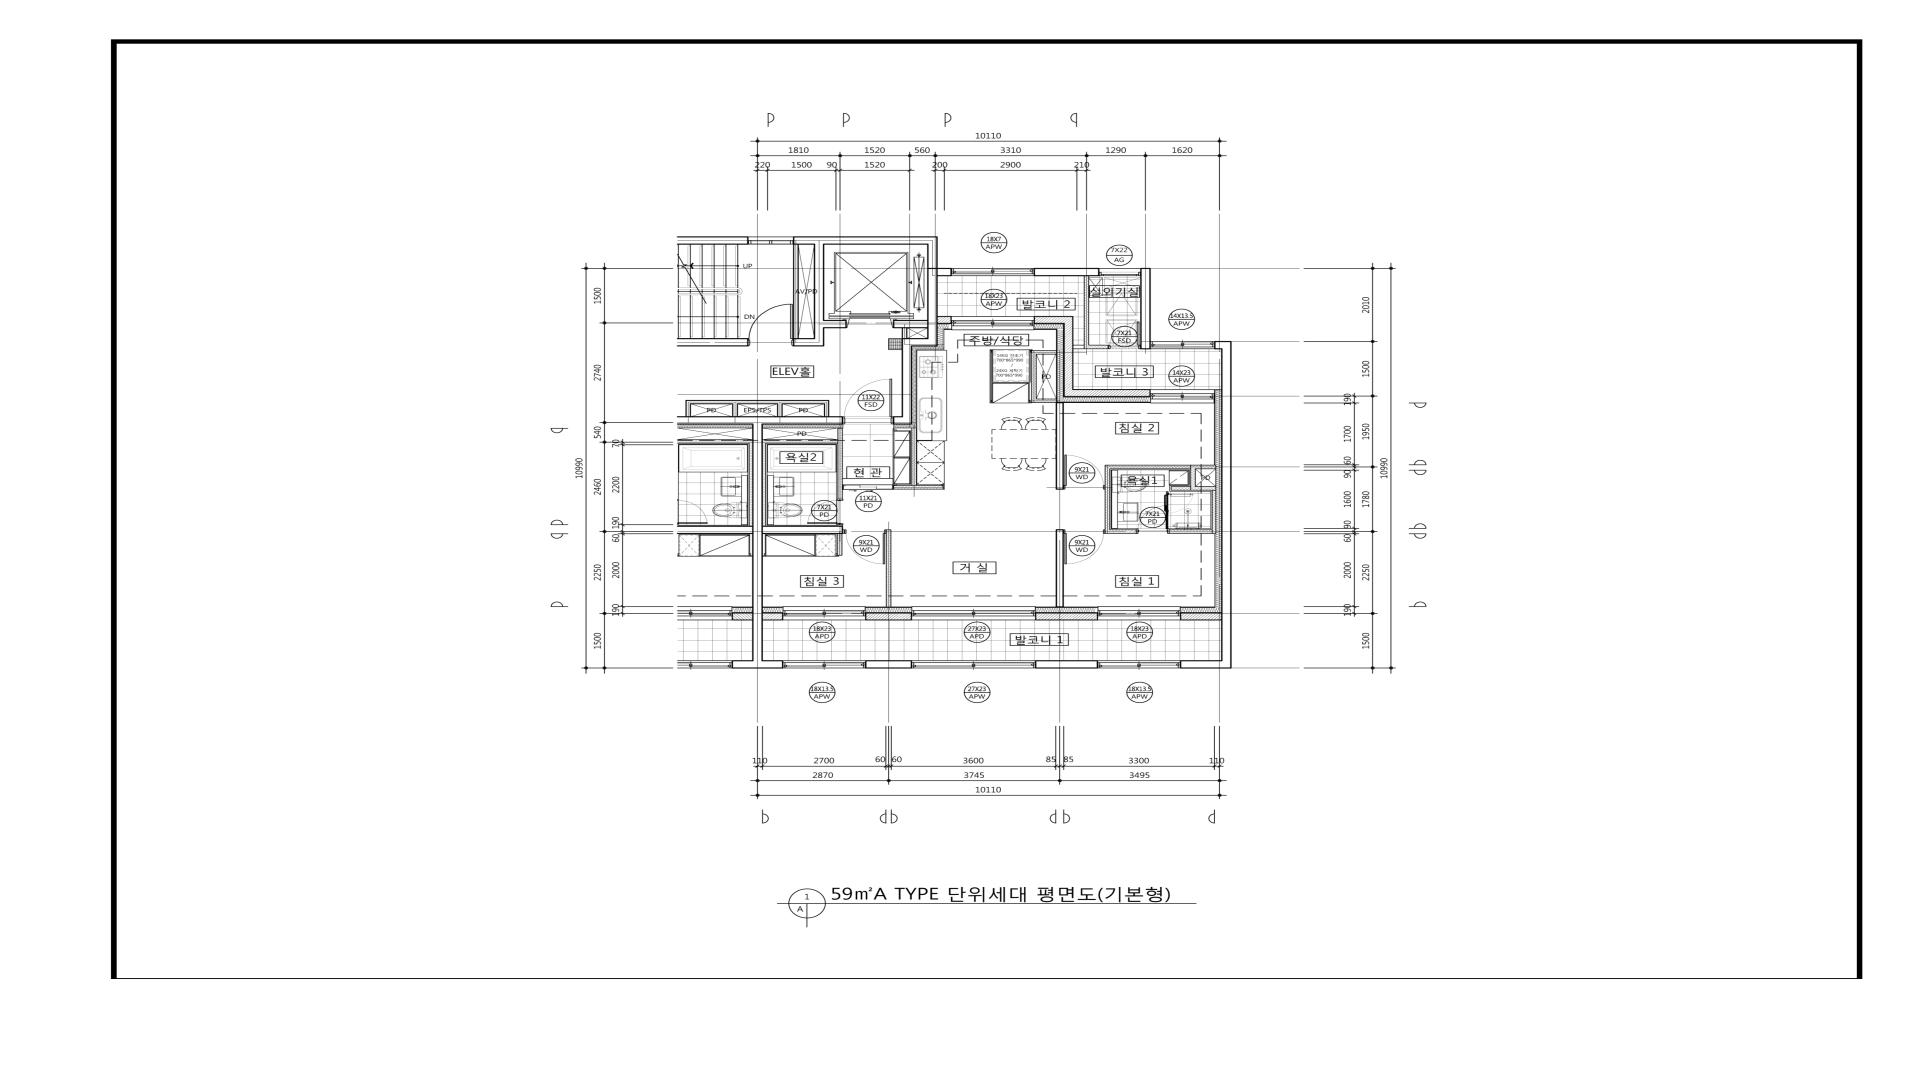door: (843, 378, 893, 425), (748, 303, 794, 347), (844, 530, 886, 564), (1064, 530, 1105, 564), (1064, 455, 1105, 489), (807, 498, 844, 525), (1137, 505, 1170, 534), (1108, 322, 1141, 349), (843, 484, 894, 489)
wall: (1221, 349, 1232, 669), (752, 425, 762, 661), (676, 417, 843, 425), (794, 236, 938, 244), (927, 244, 938, 347), (814, 244, 824, 338), (1141, 268, 1151, 349), (1063, 324, 1073, 397), (686, 400, 829, 405), (902, 345, 911, 425), (1056, 404, 1064, 489), (676, 338, 748, 347), (676, 236, 748, 245), (762, 526, 843, 534), (1056, 529, 1064, 607), (1073, 389, 1150, 397), (1105, 464, 1216, 469), (1034, 268, 1100, 276), (1035, 661, 1098, 669), (1035, 612, 1098, 620), (793, 244, 798, 338), (886, 530, 891, 607), (837, 427, 843, 498), (865, 661, 911, 669), (865, 612, 911, 620), (1084, 276, 1089, 344), (1105, 469, 1110, 534), (762, 443, 766, 526), (1180, 661, 1221, 669), (1180, 612, 1221, 620), (1034, 316, 1073, 324), (911, 429, 916, 485), (793, 338, 824, 347), (893, 320, 927, 328), (1031, 355, 1036, 404), (752, 661, 783, 669), (902, 338, 927, 345), (762, 440, 837, 443), (894, 485, 943, 489), (824, 320, 847, 328), (1212, 491, 1216, 534), (1170, 530, 1212, 534), (762, 612, 783, 620), (990, 349, 993, 404), (1215, 342, 1232, 349), (1084, 344, 1108, 349), (938, 316, 952, 324), (938, 268, 952, 276), (837, 534, 843, 555), (1036, 398, 1056, 404), (1110, 530, 1137, 534), (1031, 351, 1056, 355), (1191, 487, 1216, 491), (1191, 469, 1196, 487), (1171, 487, 1191, 491), (893, 417, 902, 425), (686, 404, 691, 417), (824, 405, 829, 417), (777, 405, 782, 417), (732, 405, 737, 417), (1073, 344, 1084, 349), (1029, 384, 1031, 404), (993, 382, 1031, 384), (902, 328, 907, 338), (837, 525, 843, 526), (843, 530, 844, 534)
window: (911, 607, 1035, 620), (1097, 607, 1180, 620), (952, 316, 1034, 330), (783, 607, 865, 620), (911, 661, 1035, 669), (1150, 389, 1215, 404), (1097, 661, 1180, 669), (783, 661, 865, 669), (952, 268, 1034, 276), (1151, 342, 1215, 349), (748, 236, 794, 244), (1100, 268, 1141, 276)
